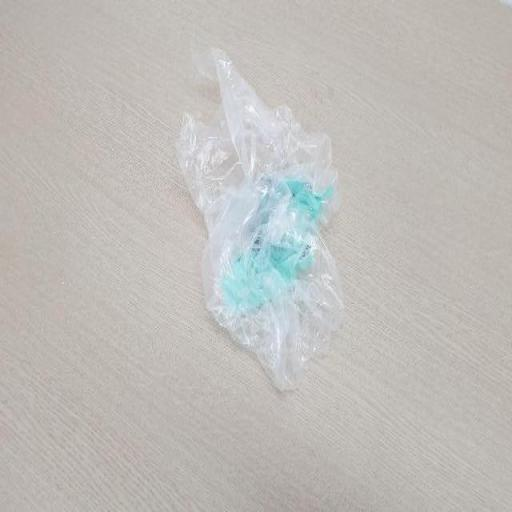plastic-bag: (173, 43, 349, 398)
